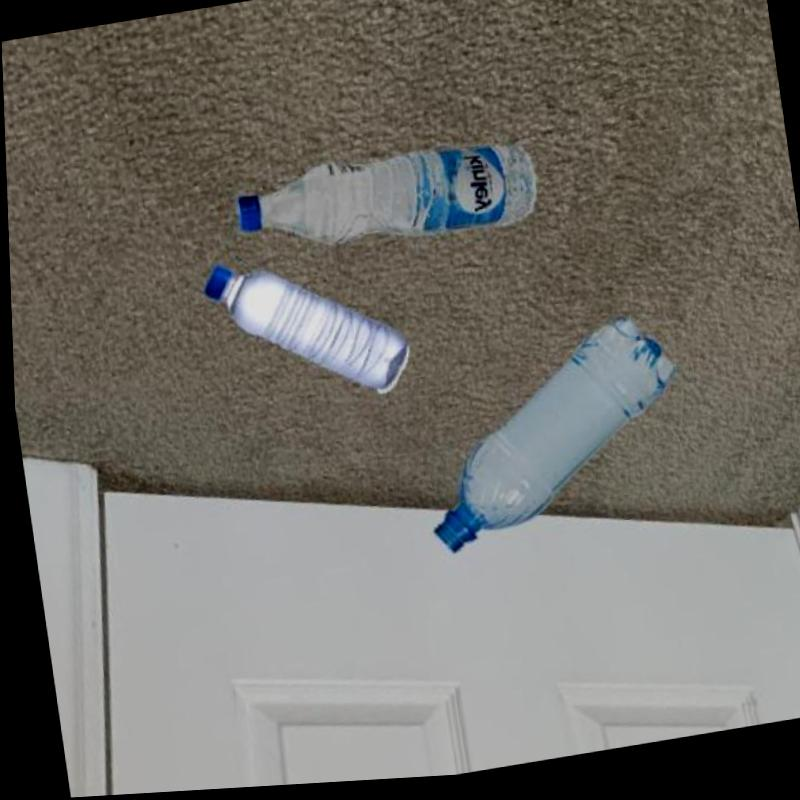botella: (404, 316, 690, 559), (229, 130, 546, 268), (200, 241, 418, 421)
